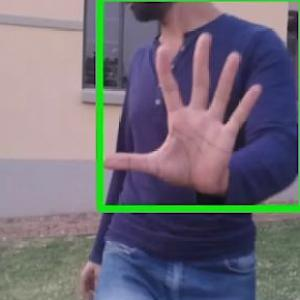follow_hand: (101, 27, 270, 197)
